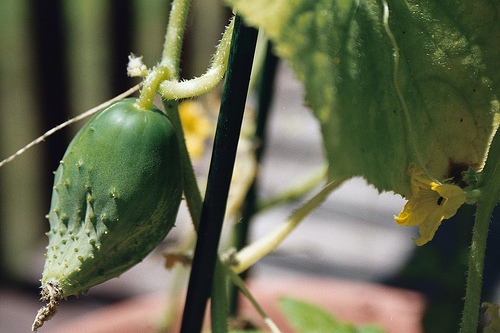cucumber: (34, 96, 183, 332)
